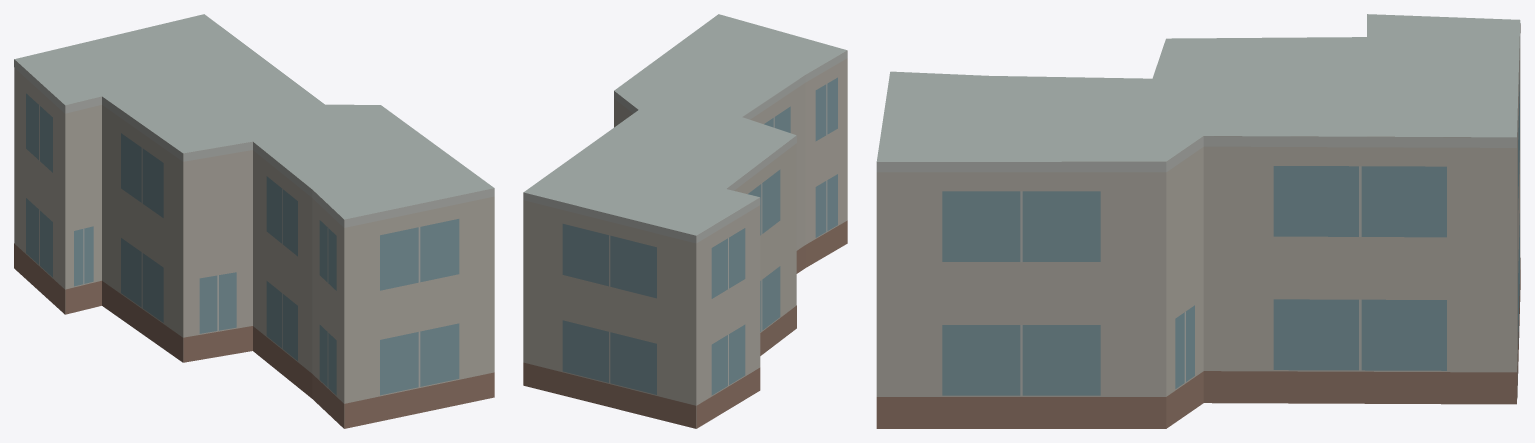
File: survey-upis-32799571.glb
3 renders of one model, left to right at view 1: azimuth 30°, elevation 25°; view 2: azimuth 150°, elevation 25°; view 3: azimuth 270°, elevation 25°, orthographic. The views are drawn at different scales.
Visible parts, largest first — view 1: survey-upis-32799571.tmp; view 2: survey-upis-32799571.tmp; view 3: survey-upis-32799571.tmp.
Boxes of the visible parts, x1,y1,x2,y2 form: survey-upis-32799571.tmp: (14,14,494,428); survey-upis-32799571.tmp: (523,14,847,428); survey-upis-32799571.tmp: (876,14,1520,428).
Bounding box in the file's own units: 7.25 × 6.1 × 13.34.
